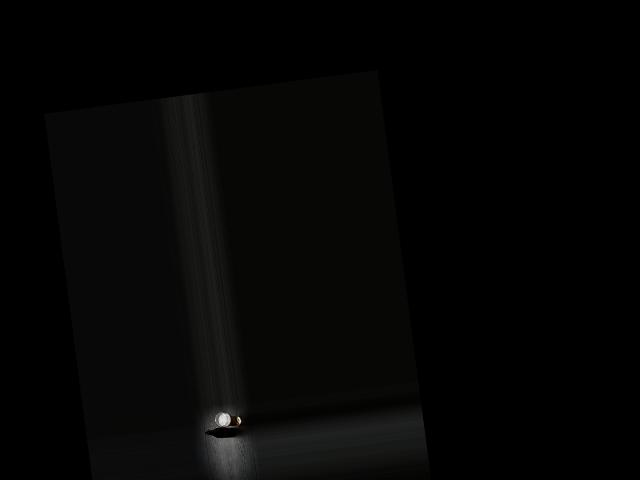beer: (204, 425, 236, 441)
